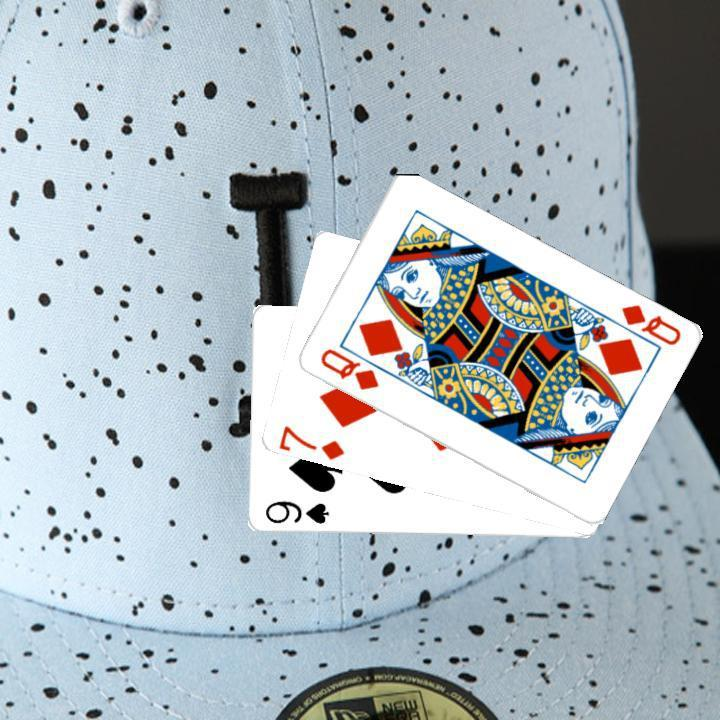7: (275, 421, 346, 462)
9: (260, 496, 331, 526)
Q: (315, 344, 381, 393), (616, 300, 683, 348)
